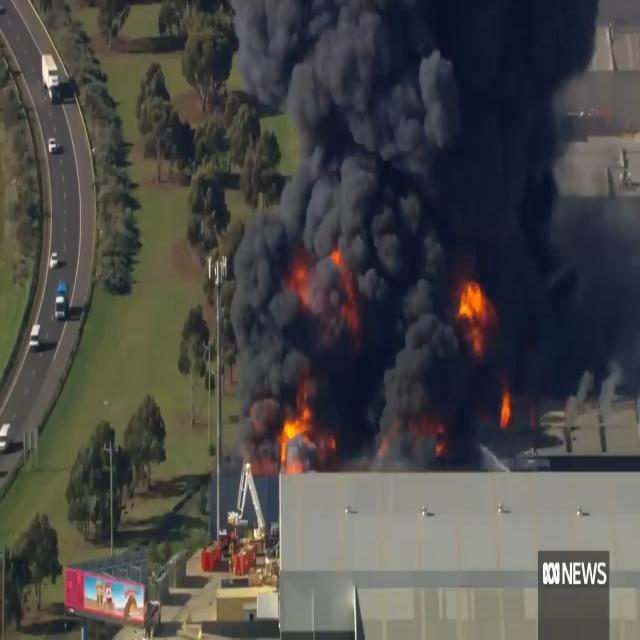fire: (458, 278, 492, 353), (334, 249, 363, 331), (280, 416, 318, 460), (499, 388, 511, 425)
